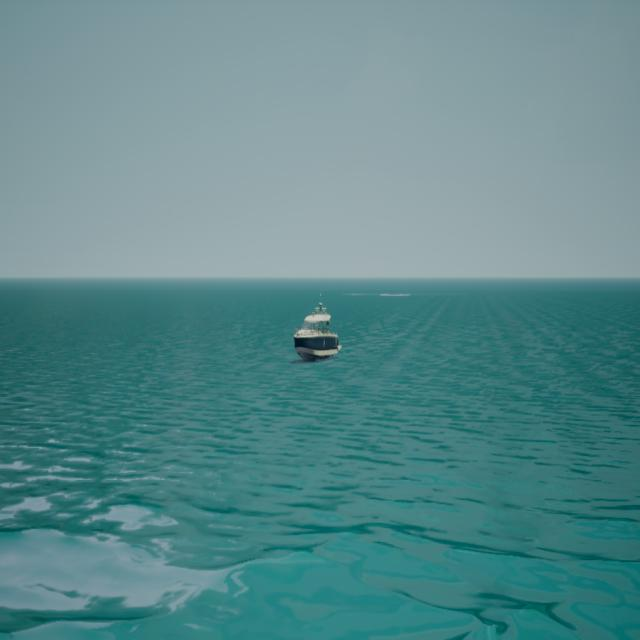ship: (293, 295, 339, 361)
